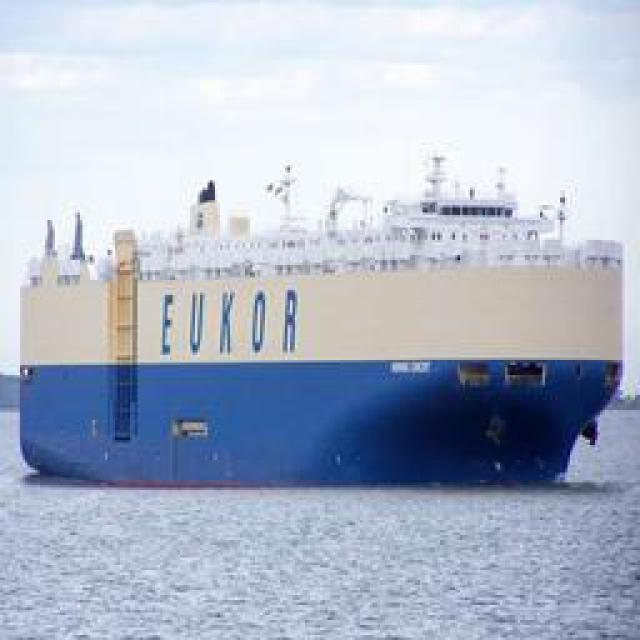Ship: (26, 115, 624, 493)
